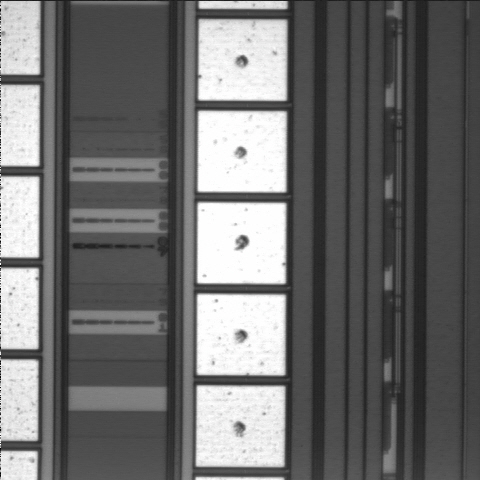pad: (198, 19, 287, 101), (197, 202, 286, 284), (198, 111, 287, 192), (197, 294, 286, 375), (196, 386, 285, 467)
